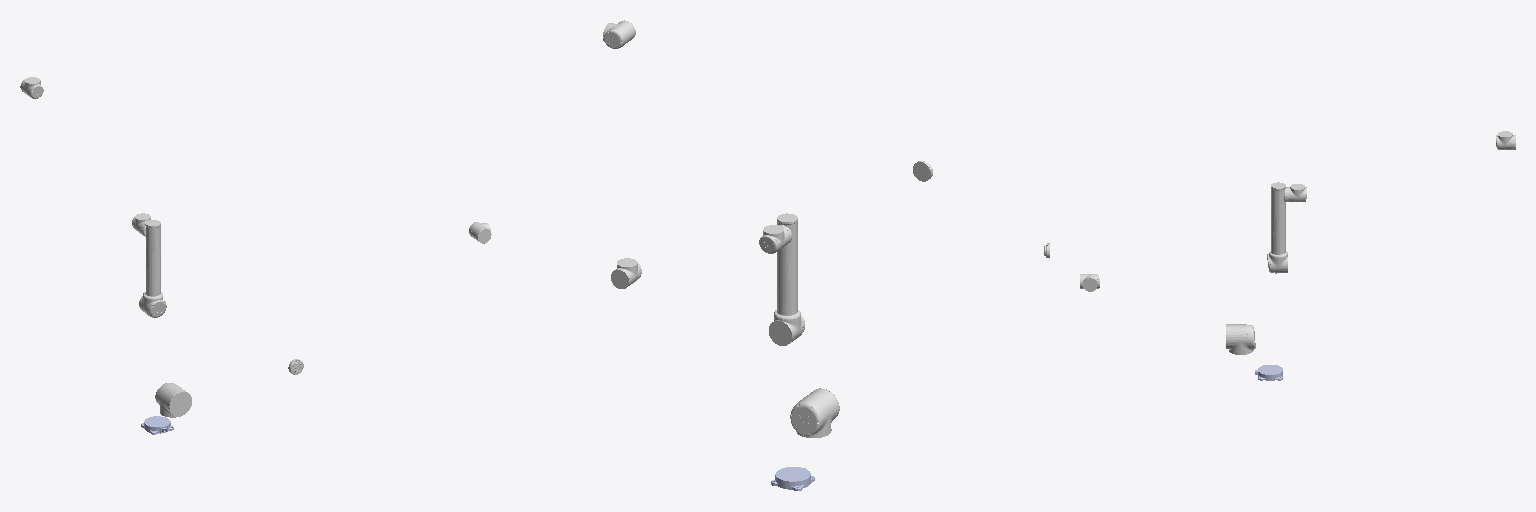
The robot description file, URDF, robot "UR10_zj":
<?xml version="1.0" encoding="utf-8"?>
<!-- This URDF was automatically created by SolidWorks to URDF Exporter! Originally created by Stephen Brawner ([email redacted]) 
     Commit Version: 1.6.0-1-g15f4949  Build Version: 1.6.7594.29634
     For more information, please see http://wiki.ros.org/sw_urdf_exporter -->
<robot
  name="UR10_zj">
  <link
    name="base_link">
    <inertial>
      <origin
        xyz="7.3566E-06 -0.00047514 0.018439"
        rpy="0 0 0" />
      <mass
        value="0.70922" />
      <inertia
        ixx="0.0011559"
        ixy="4.8396E-08"
        ixz="7.9936E-08"
        iyy="0.0011463"
        iyz="2.072E-07"
        izz="0.0021293" />
    </inertial>
    <visual>
      <origin
        xyz="0 0 0"
        rpy="0 0 0" />
      <geometry>
        <mesh
          filename="package://UR10_zj/meshes/base_link.STL" />
      </geometry>
      <material
        name="">
        <color
          rgba="0.79216 0.81961 0.93333 1" />
      </material>
    </visual>
    <collision>
      <origin
        xyz="0 0 0"
        rpy="0 0 0" />
      <geometry>
        <mesh
          filename="package://UR10_zj/meshes/base_link.STL" />
      </geometry>
    </collision>
  </link>
  <link
    name="link1">
    <inertial>
      <origin
        xyz="7.6595E-06 0.011618 -0.011445"
        rpy="0 0 0" />
      <mass
        value="3.0772" />
      <inertia
        ixx="0.010751"
        ixy="-1.3227E-06"
        ixz="-4.7406E-08"
        iyy="0.010037"
        iyz="-0.0010442"
        izz="0.010085" />
    </inertial>
    <visual>
      <origin
        xyz="0 0 0"
        rpy="0 0 0" />
      <geometry>
        <mesh
          filename="package://UR10_zj/meshes/link1.STL" />
      </geometry>
      <material
        name="">
        <color
          rgba="0.88235 0.88235 0.88235 1" />
      </material>
    </visual>
    <collision>
      <origin
        xyz="0 0 0"
        rpy="0 0 0" />
      <geometry>
        <mesh
          filename="package://UR10_zj/meshes/link1.STL" />
      </geometry>
    </collision>
  </link>
  <joint
    name="joint1"
    type="revolute">
    <origin
      xyz="0 0 0.128"
      rpy="0 0 0" />
    <parent
      link="base_link" />
    <child
      link="link1" />
    <axis
      xyz="0 0 1" />
    <limit
      lower="-3.14"
      upper="3.14"
      effort="200"
      velocity="2.5" />
  </joint>
  <link
    name="link2">
    <inertial>
      <origin
        xyz="8.391E-05 -0.0056337 0.25075"
        rpy="0 0 0" />
      <mass
        value="8.7168" />
      <inertia
        ixx="0.095263"
        ixy="3.0926E-07"
        ixz="4.1535E-07"
        iyy="0.094853"
        iyz="-0.00075474"
        izz="0.018732" />
    </inertial>
    <visual>
      <origin
        xyz="0 0 0"
        rpy="0 0 0" />
      <geometry>
        <mesh
          filename="package://UR10_zj/meshes/link2.STL" />
      </geometry>
      <material
        name="">
        <color
          rgba="0.88235 0.88235 0.88235 1" />
      </material>
    </visual>
    <collision>
      <origin
        xyz="0 0 0"
        rpy="0 0 0" />
      <geometry>
        <mesh
          filename="package://UR10_zj/meshes/link2.STL" />
      </geometry>
    </collision>
  </link>
  <joint
    name="joint2"
    type="revolute">
    <origin
      xyz="0 0.176 0"
      rpy="0 0 0" />
    <parent
      link="link1" />
    <child
      link="link2" />
    <axis
      xyz="0 1 0" />
    <limit
      lower="-3.14"
      upper="3.14"
      effort="200"
      velocity="2.5" />
  </joint>
  <link
    name="link3">
    <inertial>
      <origin
        xyz="-2.4116E-06 0.0032009 0.25687"
        rpy="0 0 0" />
      <mass
        value="4.6569" />
      <inertia
        ixx="0.051345"
        ixy="-1.6668E-07"
        ixz="7.8599E-07"
        iyy="0.051404"
        iyz="0.00016819"
        izz="0.0056147" />
    </inertial>
    <visual>
      <origin
        xyz="0 0 0"
        rpy="0 0 0" />
      <geometry>
        <mesh
          filename="package://UR10_zj/meshes/link3.STL" />
      </geometry>
      <material
        name="">
        <color
          rgba="0.88235 0.88235 0.88235 1" />
      </material>
    </visual>
    <collision>
      <origin
        xyz="0 0 0"
        rpy="0 0 0" />
      <geometry>
        <mesh
          filename="package://UR10_zj/meshes/link3.STL" />
      </geometry>
    </collision>
  </link>
  <joint
    name="joint3"
    type="revolute">
    <origin
      xyz="0 -0.12781 0.6127"
      rpy="0 0 0" />
    <parent
      link="link2" />
    <child
      link="link3" />
    <axis
      xyz="0 -1 0" />
    <limit
      lower="-3.14"
      upper="3.14"
      effort="200"
      velocity="2.5" />
  </joint>
  <link
    name="link4">
    <inertial>
      <origin
        xyz="-0.0096704 0.1081 7.0328E-06"
        rpy="0 0 0" />
      <mass
        value="0.72954" />
      <inertia
        ixx="0.000878"
        ixy="0.00012023"
        ixz="9.367E-08"
        iyy="0.00091067"
        iyz="1.0348E-07"
        izz="0.00098773" />
    </inertial>
    <visual>
      <origin
        xyz="0 0 0"
        rpy="0 0 0" />
      <geometry>
        <mesh
          filename="package://UR10_zj/meshes/link4.STL" />
      </geometry>
      <material
        name="">
        <color
          rgba="0.88235 0.88235 0.88235 1" />
      </material>
    </visual>
    <collision>
      <origin
        xyz="0 0 0"
        rpy="0 0 0" />
      <geometry>
        <mesh
          filename="package://UR10_zj/meshes/link4.STL" />
      </geometry>
    </collision>
  </link>
  <joint
    name="joint4"
    type="revolute">
    <origin
      xyz="0 0 0.5716"
      rpy="0 1.5708 0" />
    <parent
      link="link3" />
    <child
      link="link4" />
    <axis
      xyz="0 -1 0" />
    <limit
      lower="-3.14"
      upper="3.14"
      effort="200"
      velocity="2.5" />
  </joint>
  <link
    name="link5">
    <inertial>
      <origin
        xyz="-7.0711E-06 0.0096704 0.1081"
        rpy="0 0 0" />
      <mass
        value="0.72955" />
      <inertia
        ixx="0.00098773"
        ixy="9.2975E-08"
        ixz="-1.0414E-07"
        iyy="0.000878"
        iyz="-0.00012023"
        izz="0.00091067" />
    </inertial>
    <visual>
      <origin
        xyz="0 0 0"
        rpy="0 0 0" />
      <geometry>
        <mesh
          filename="package://UR10_zj/meshes/link5.STL" />
      </geometry>
      <material
        name="">
        <color
          rgba="0.88235 0.88235 0.88235 1" />
      </material>
    </visual>
    <collision>
      <origin
        xyz="0 0 0"
        rpy="0 0 0" />
      <geometry>
        <mesh
          filename="package://UR10_zj/meshes/link5.STL" />
      </geometry>
    </collision>
  </link>
  <joint
    name="joint5"
    type="revolute">
    <origin
      xyz="0 0.1157 0"
      rpy="3.1416 -1.5708 0" />
    <parent
      link="link4" />
    <child
      link="link5" />
    <axis
      xyz="0 0 -1" />
    <limit
      lower="-3.14"
      upper="3.14"
      effort="200"
      velocity="2.5" />
  </joint>
  <link
    name="link6">
    <inertial>
      <origin
        xyz="-2.5079E-09 0.07474 -0.00092063"
        rpy="0 0 0" />
      <mass
        value="0.15951" />
      <inertia
        ixx="8.1645E-05"
        ixy="2.595E-12"
        ixz="2.2351E-11"
        iyy="0.00014937"
        iyz="4.9639E-07"
        izz="8.7757E-05" />
    </inertial>
    <visual>
      <origin
        xyz="0 0 0"
        rpy="0 0 0" />
      <geometry>
        <mesh
          filename="package://UR10_zj/meshes/link6.STL" />
      </geometry>
      <material
        name="">
        <color
          rgba="0.88235 0.88235 0.88235 1" />
      </material>
    </visual>
    <collision>
      <origin
        xyz="0 0 0"
        rpy="0 0 0" />
      <geometry>
        <mesh
          filename="package://UR10_zj/meshes/link6.STL" />
      </geometry>
    </collision>
  </link>
  <joint
    name="joint6"
    type="revolute">
    <origin
      xyz="0 0 0.1157"
      rpy="0 0 0" />
    <parent
      link="link5" />
    <child
      link="link6" />
    <axis
      xyz="0 -1 0" />
    <limit
      lower="-3.14"
      upper="3.14"
      effort="200"
      velocity="2.5" />
  </joint>
  <link
    name="endlink">
    <inertial>
      <origin
        xyz="2.5079E-09 -0.00092063 -0.01746"
        rpy="0 0 0" />
      <mass
        value="0.15951" />
      <inertia
        ixx="8.1645E-05"
        ixy="-2.2351E-11"
        ixz="-2.595E-12"
        iyy="8.7757E-05"
        iyz="4.9639E-07"
        izz="0.00014937" />
    </inertial>
    <visual>
      <origin
        xyz="0 0 0"
        rpy="0 0 0" />
      <geometry>
        <mesh
          filename="package://UR10_zj/meshes/endlink.STL" />
      </geometry>
      <material
        name="">
        <color
          rgba="0.88235 0.88235 0.88235 1" />
      </material>
    </visual>
    <collision>
      <origin
        xyz="0 0 0"
        rpy="0 0 0" />
      <geometry>
        <mesh
          filename="package://UR10_zj/meshes/endlink.STL" />
      </geometry>
    </collision>
  </link>
  <joint
    name="endjoint"
    type="fixed">
    <origin
      xyz="0 0.0922 0"
      rpy="1.5708 0 3.1416" />
    <parent
      link="link6" />
    <child
      link="endlink" />
    <axis
      xyz="0 0 0" />
  </joint>
</robot>

--- Render facts (derived) ---
3 views of the same robot in one strip: view 1: azimuth 30°, elevation 25°; view 2: azimuth 150°, elevation 25°; view 3: azimuth 270°, elevation 25° (orthographic).
Model UR10_zj with 8 links and 7 joints (6 revolute, 1 fixed), rooted at base_link, posed all joints at 0.
Visible links, largest first — view 1: link3, link1; view 2: link3, link1, base_link, link4, link5; view 3: link3, link1.
Boxes of the visible links, <box> form: link3: <box>139,220,491,317</box>; link1: <box>155,383,191,417</box>; link3: <box>603,20,804,345</box>; link1: <box>790,388,839,437</box>; base_link: <box>771,467,814,490</box>; link4: <box>611,258,641,288</box>; link5: <box>759,225,789,253</box>; link3: <box>1080,182,1287,291</box>; link1: <box>1226,324,1255,354</box>.
Size in the robot's own frame: 1.61 by 2.83 by 1.6 metres.
7 mesh visuals loaded from 8 distinct referenced files (7 binary STL); not drawn: 1 (reference not matched to a file when rendering).
